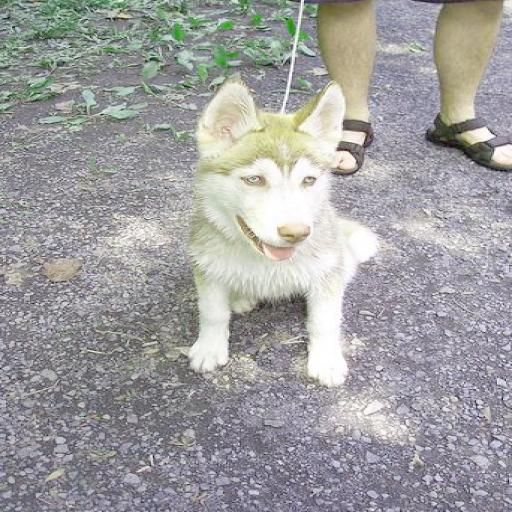dog_face: (183, 84, 347, 264)
